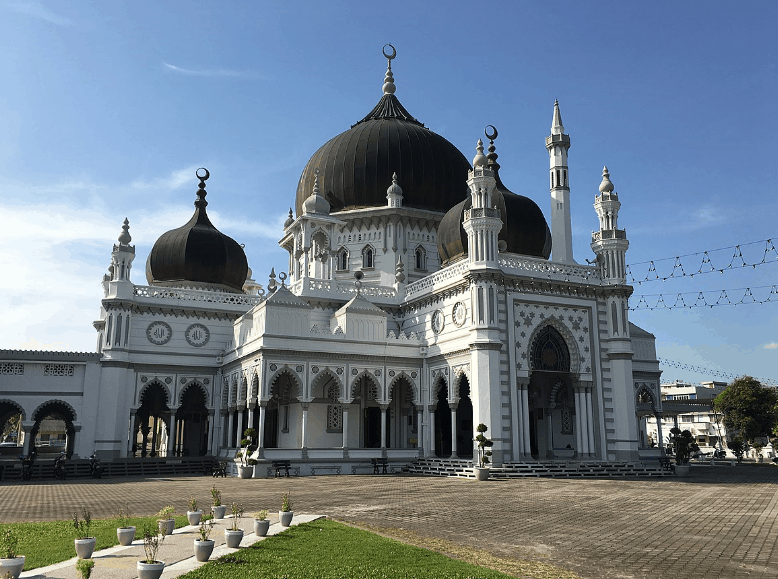Mosque: (76, 46, 645, 464)
